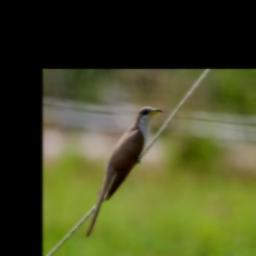Cuckoo: (83, 105, 164, 241)
